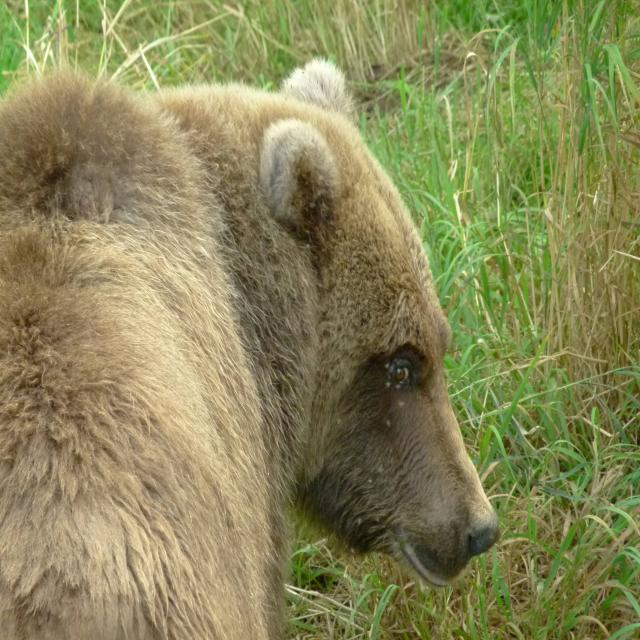bear face: (0, 57, 503, 639)
